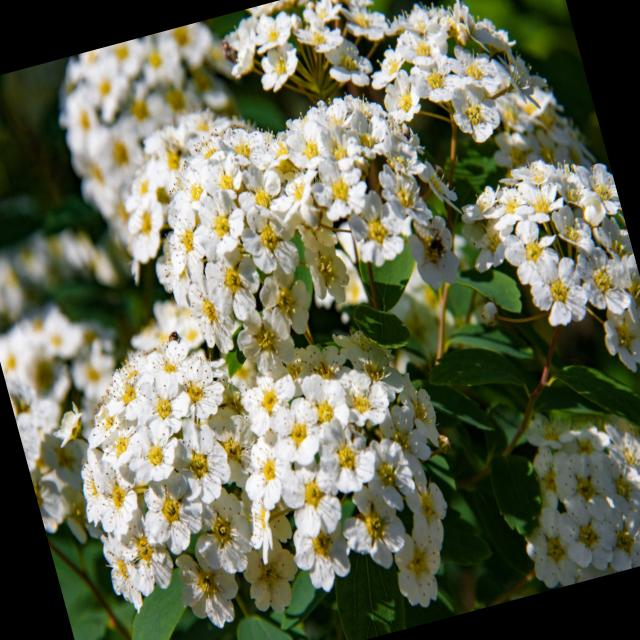Poisonous-Hemlock: (47, 0, 640, 422), (41, 251, 640, 640)
